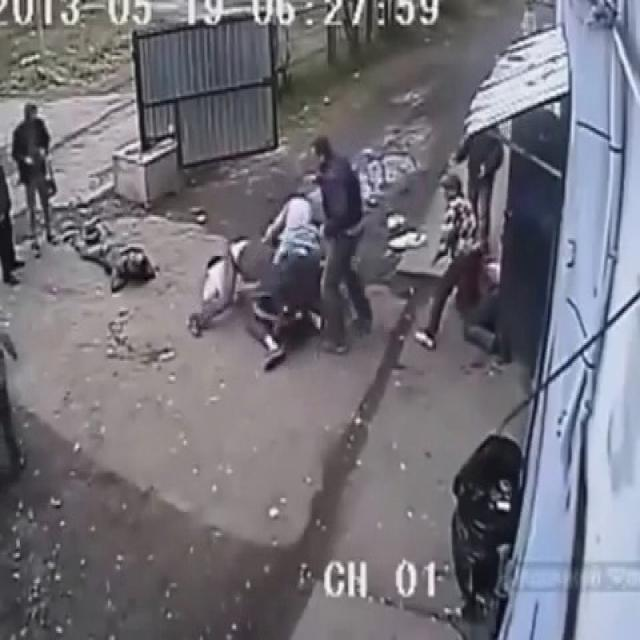fight: (188, 193, 322, 373)
